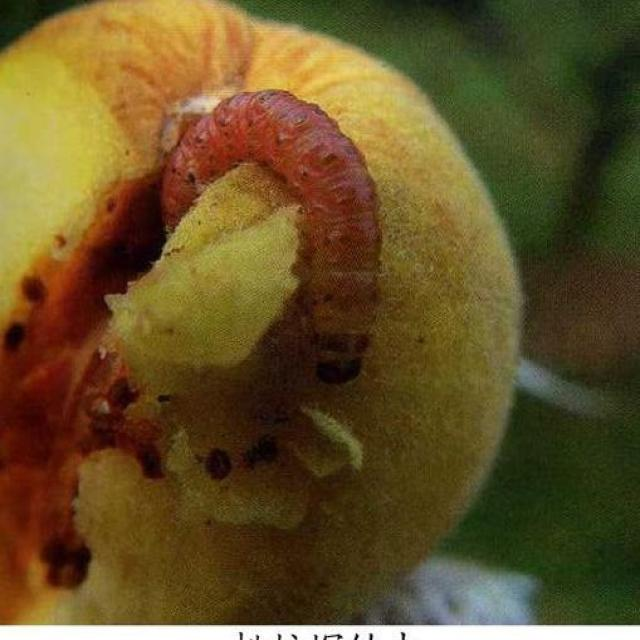peach borer: (157, 87, 397, 432)
